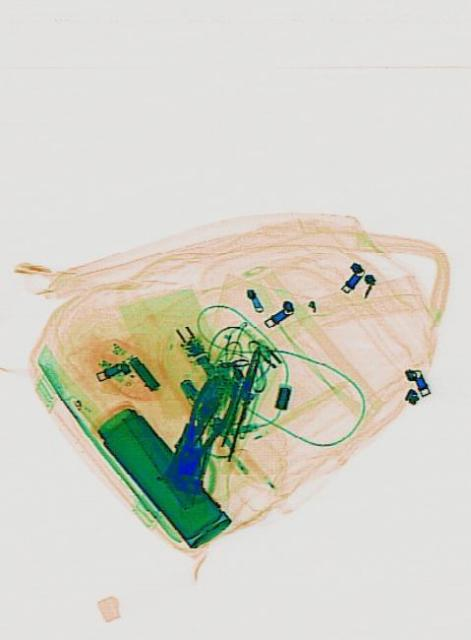Pliers: (162, 363, 243, 489)
